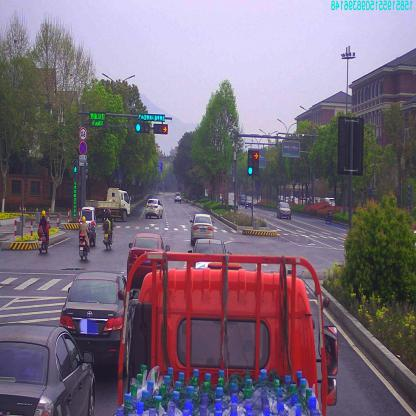traffic-light: (154, 124, 168, 134), (139, 116, 166, 120), (137, 124, 149, 133)
